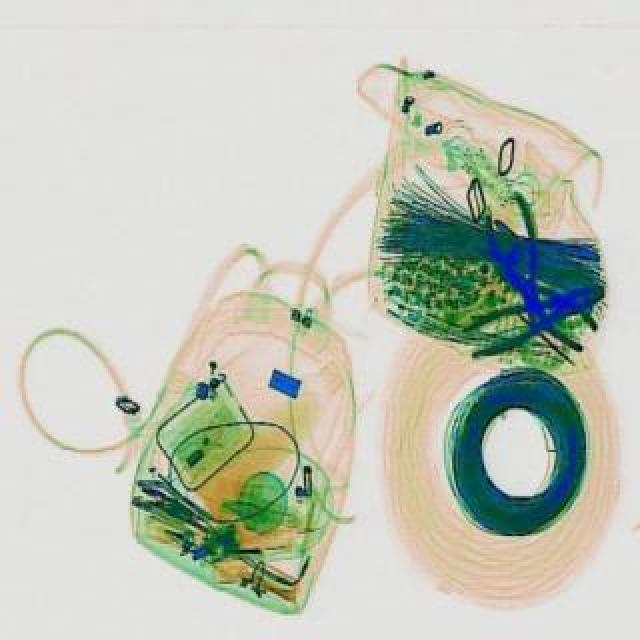wrench: (456, 270, 612, 360), (472, 190, 564, 324)
